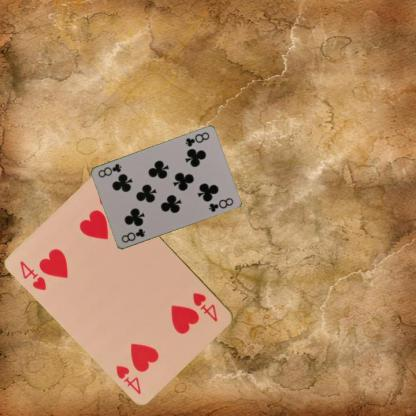4h: (17, 258, 48, 292), (190, 290, 220, 323)
8c: (183, 129, 210, 148), (119, 226, 146, 244)
